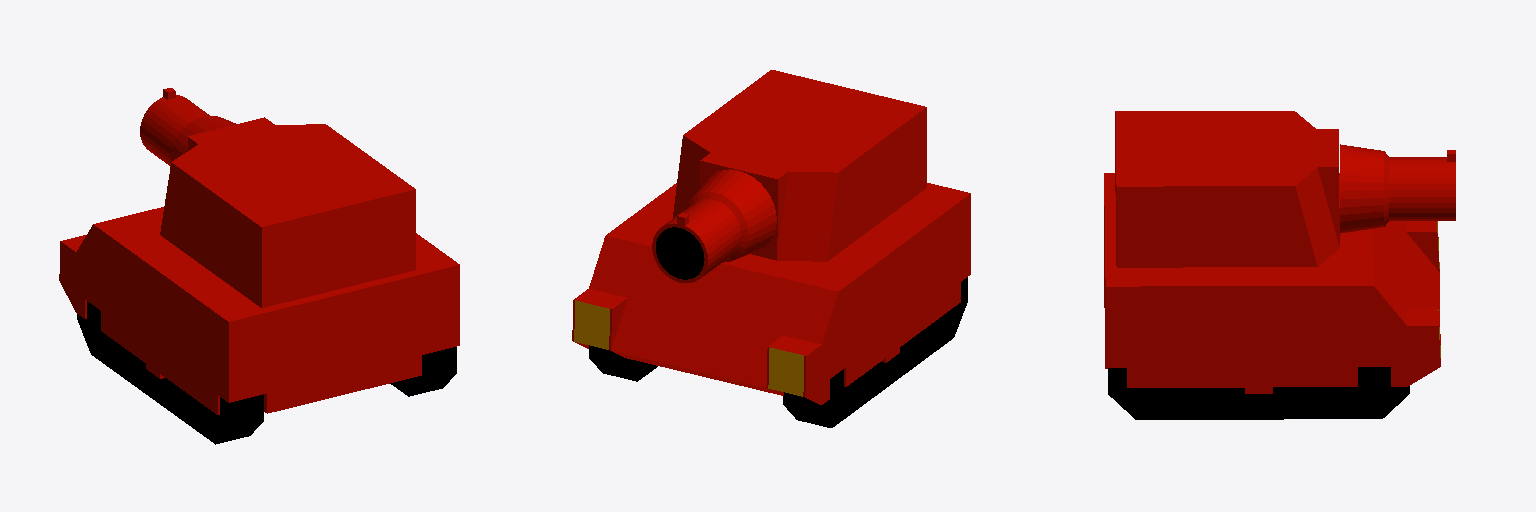
File: heavytank.obj
The picture shows the model from 3 angles: view 1: azimuth 30°, elevation 25°; view 2: azimuth 150°, elevation 25°; view 3: azimuth 270°, elevation 25°; orthographic projection.
Parts seen in each view (by area): view 1: armour_Cube.002, turret_body_Cube, track1_Cube.003, barrel_Cylinder, track2_Cube.004; view 2: armour_Cube.002, turret_body_Cube, barrel_Cylinder, track1_Cube.003, track2_Cube.004; view 3: armour_Cube.002, turret_body_Cube, track2_Cube.004, barrel_Cylinder.
Boxes of the visible parts, x1=… form: armour_Cube.002: x1=59, y1=207, x2=459, y2=414; turret_body_Cube: x1=160, y1=117, x2=415, y2=307; track1_Cube.003: x1=77, y1=301, x2=263, y2=444; barrel_Cylinder: x1=140, y1=95, x2=235, y2=166; track2_Cube.004: x1=390, y1=347, x2=456, y2=396; armour_Cube.002: x1=572, y1=183, x2=970, y2=404; turret_body_Cube: x1=673, y1=70, x2=926, y2=261; barrel_Cylinder: x1=652, y1=169, x2=776, y2=283; track1_Cube.003: x1=783, y1=277, x2=967, y2=427; track2_Cube.004: x1=589, y1=345, x2=657, y2=381; armour_Cube.002: x1=1104, y1=173, x2=1440, y2=387; turret_body_Cube: x1=1115, y1=111, x2=1339, y2=267; track2_Cube.004: x1=1108, y1=367, x2=1409, y2=419; barrel_Cylinder: x1=1340, y1=144, x2=1455, y2=233.
Size of the model in its own units: 6.04 by 5.31 by 7.87.